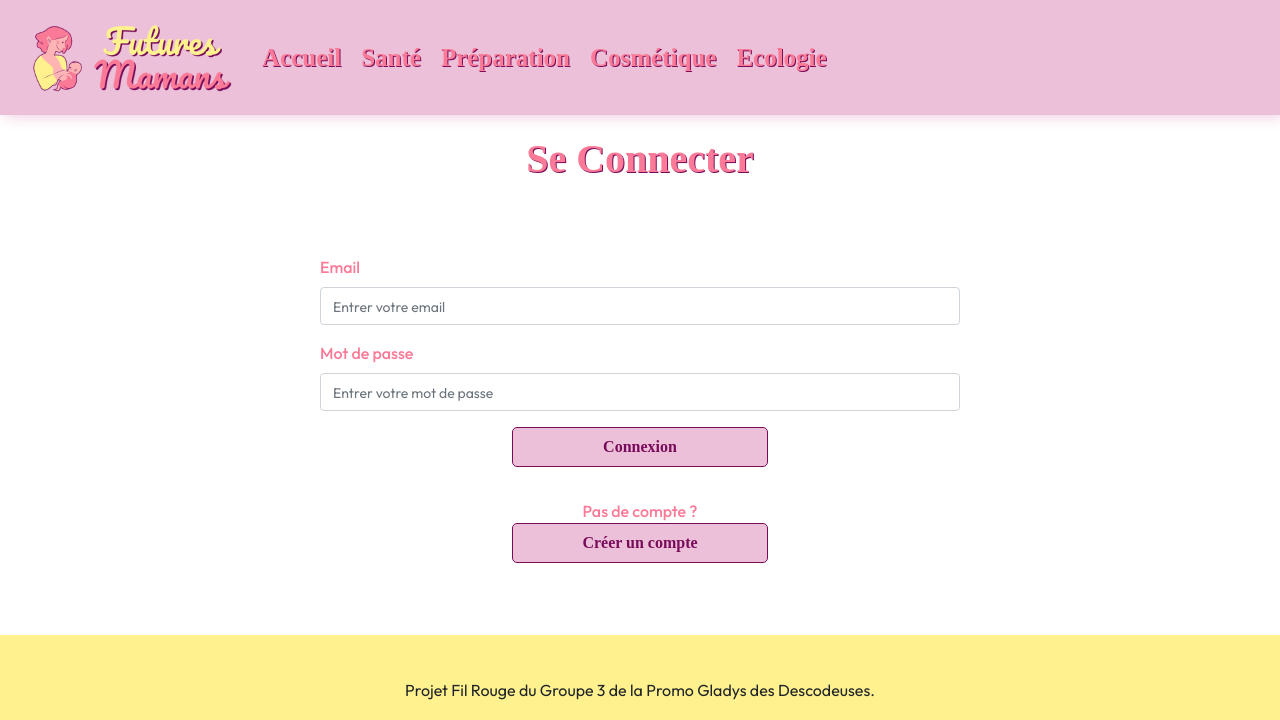
Scenario: Connexion Component Tests › 6. Affiche un message d'erreur en cas d'échec de connexion
Type "wrong@example.com" into the field with placeholder "Entrer votre email" at (640, 306), box [320,287,960,325]
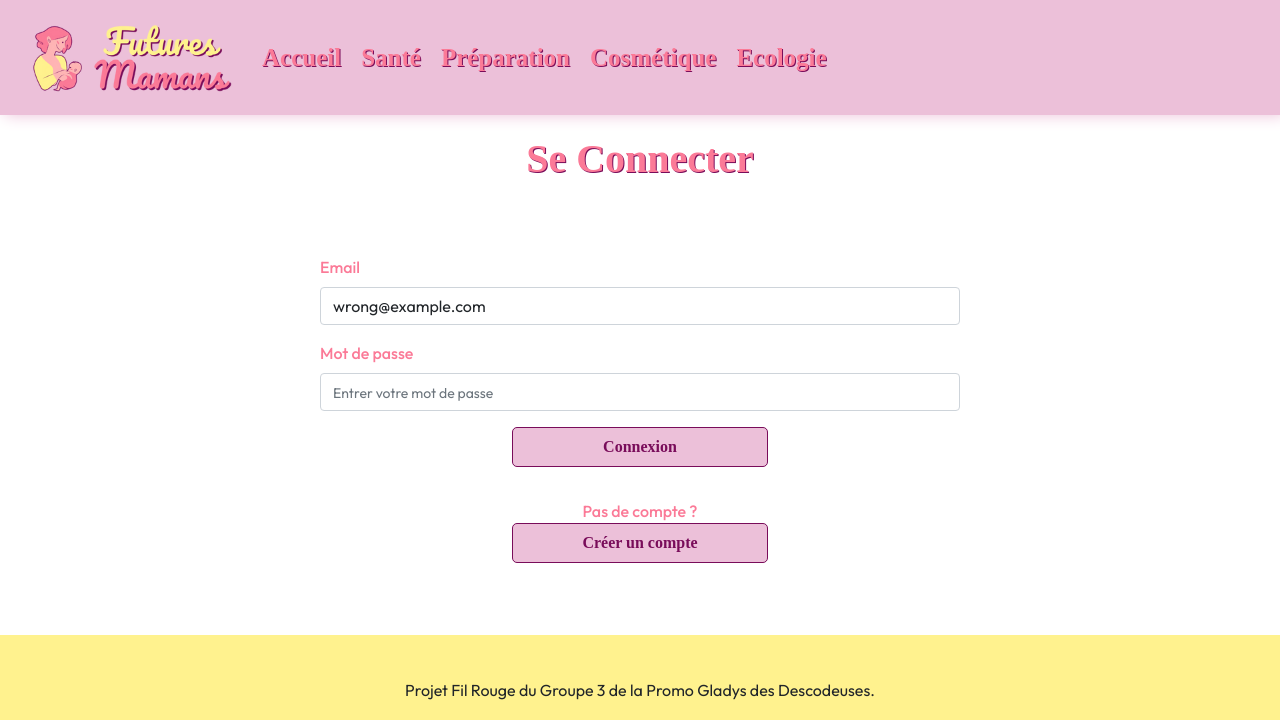
Type "wrongpassword" into the password field with placeholder "Entrer votre mot de passe" at (640, 392), box [320,373,960,411]
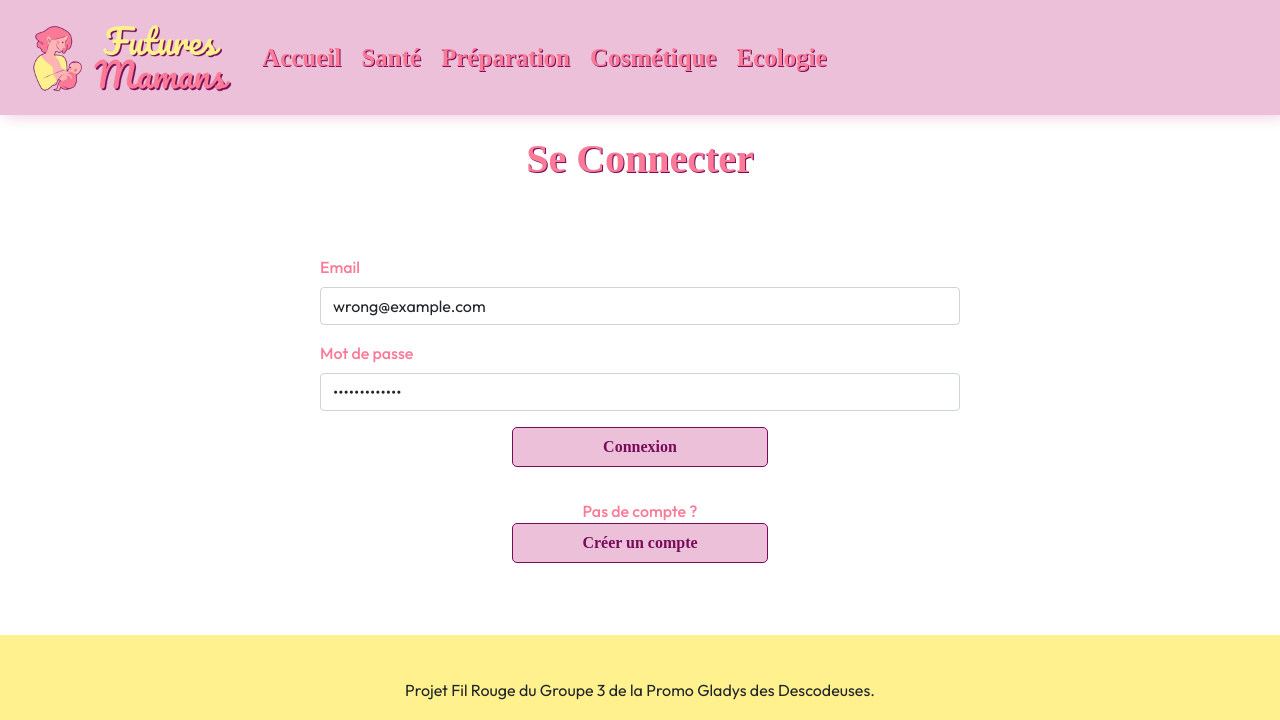
Click the button "Connexion" at (640, 447), box [512,427,768,467]
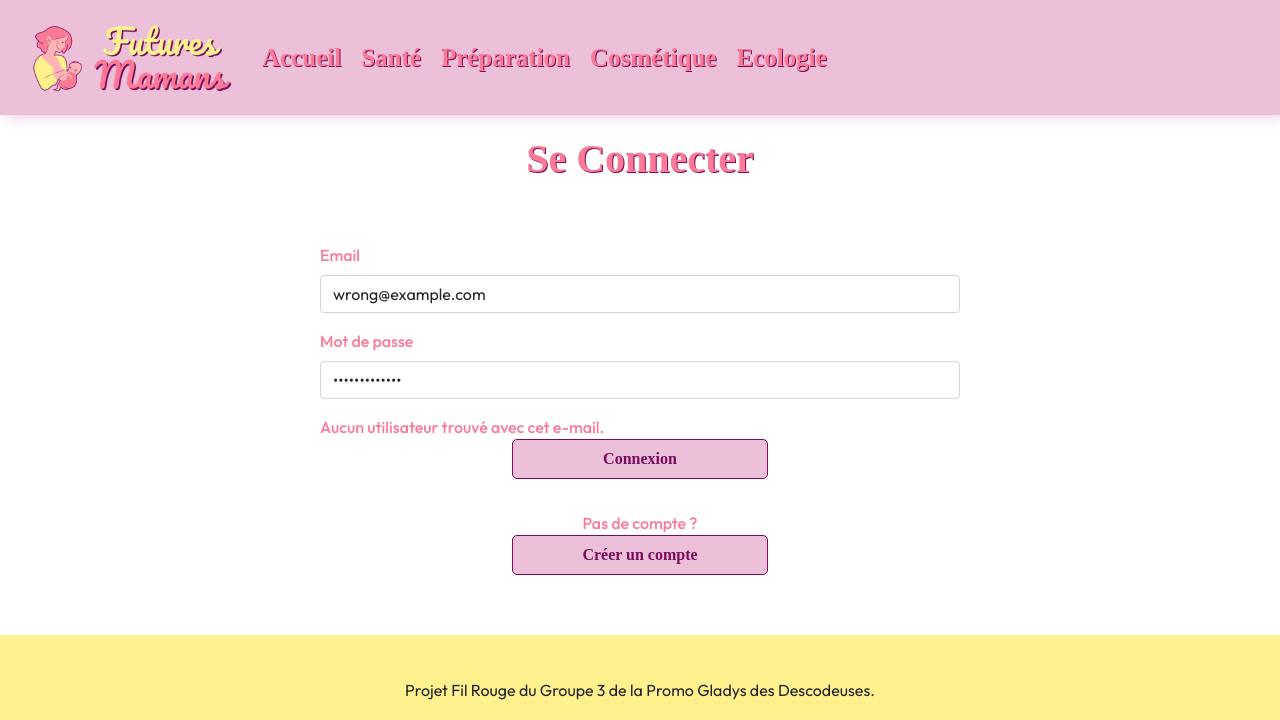
Expected: the text "Aucun utilisateur trouvé avec cet e-mail." is shown, [320,417,604,437]
